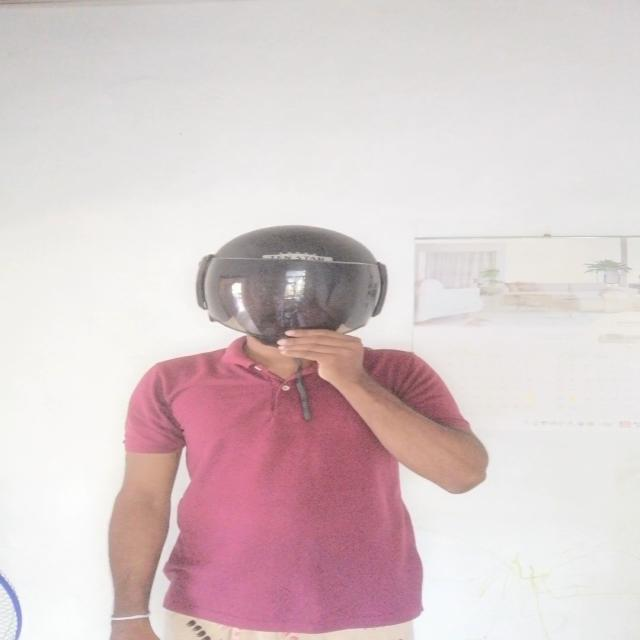Helmet_Wearer: (157, 206, 403, 372)
